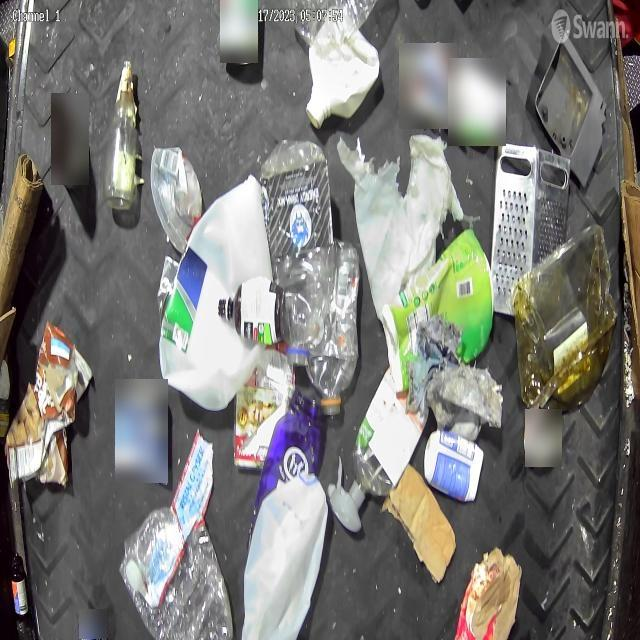milk_jug: (158, 175, 272, 411), (244, 466, 326, 640)
plastic_bottle: (260, 137, 334, 367), (295, 244, 361, 418), (350, 380, 426, 508)
